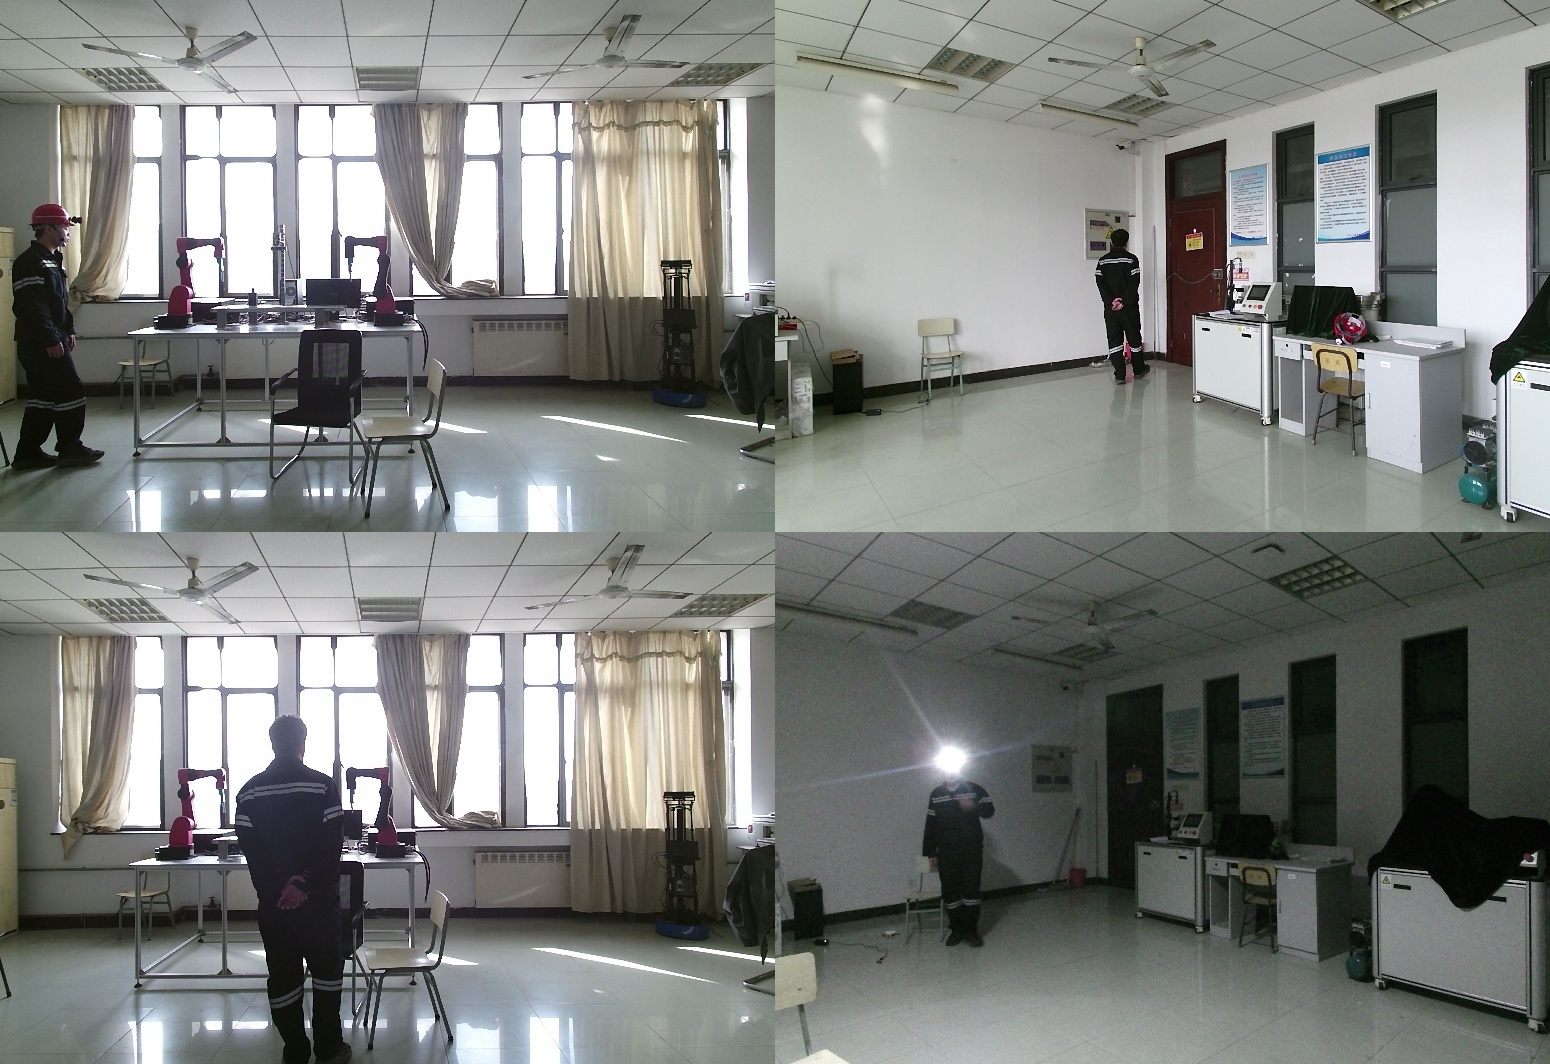person: (233, 717, 361, 1064), (7, 204, 114, 468), (917, 753, 998, 962), (1091, 228, 1150, 384)
